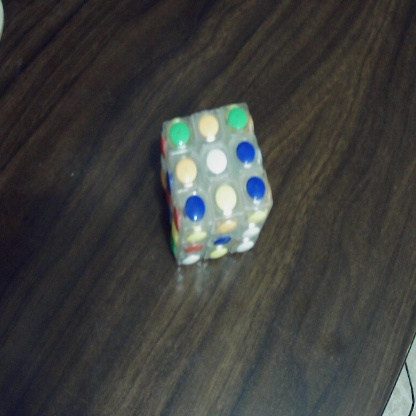Rubix Cube: (157, 100, 275, 270)
